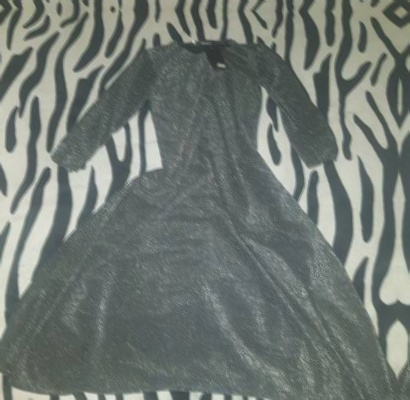Dress: (0, 26, 393, 400), (406, 30, 410, 400)
